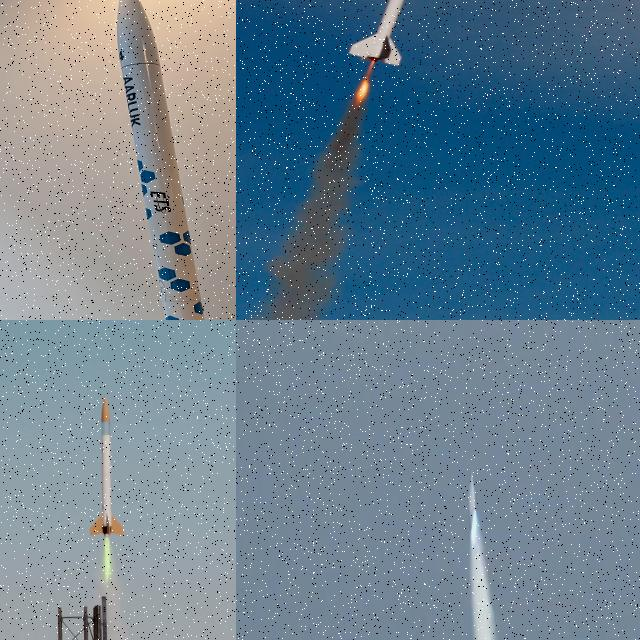Rocket: (117, 0, 206, 320), (348, 0, 451, 66), (89, 394, 125, 538), (466, 468, 483, 544)
